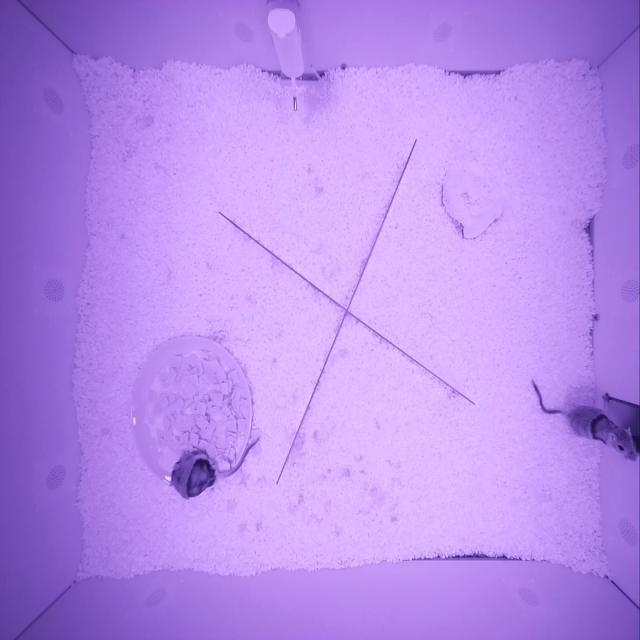adult_back: (170, 448, 215, 500)
adult_front: (569, 405, 637, 461)
